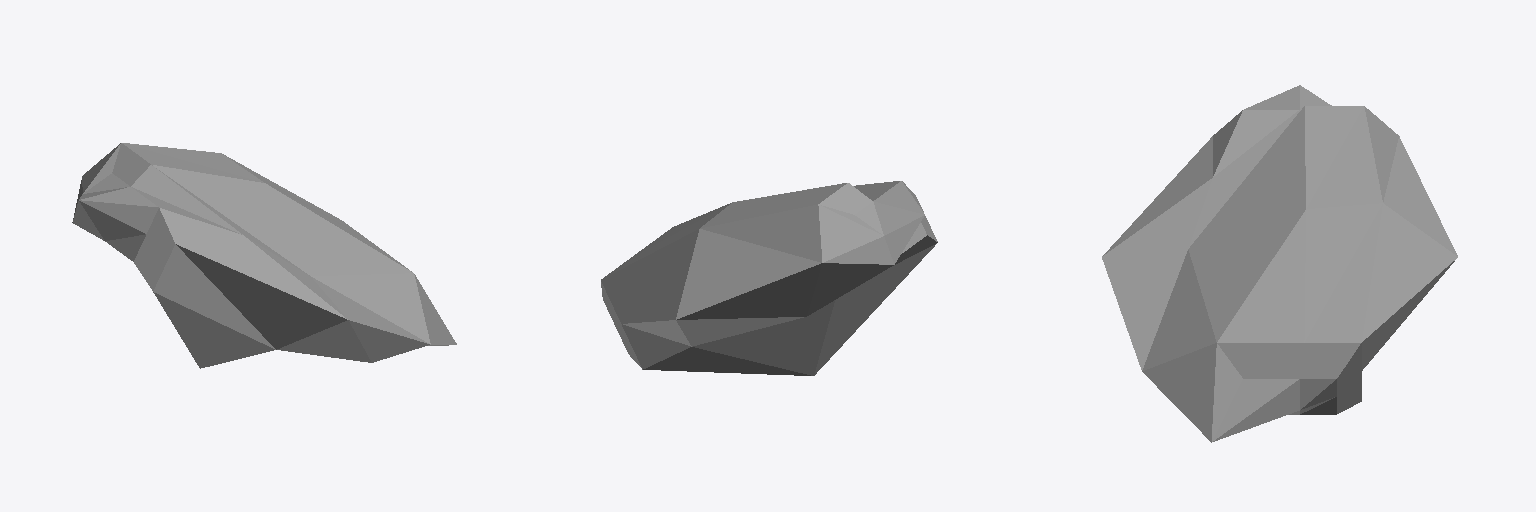
Rendered from minerals1.obj.
The picture shows the model from 3 angles: view 1: azimuth 30°, elevation 25°; view 2: azimuth 150°, elevation 25°; view 3: azimuth 270°, elevation 25°; orthographic projection.
Parts seen in each view (by area): view 1: Shard03_Cube.000; view 2: Shard03_Cube.000; view 3: Shard03_Cube.000.
Part boxes in pixels (left/top/right/bottom): Shard03_Cube.000: left=72, top=143, right=456, bottom=368; Shard03_Cube.000: left=601, top=181, right=937, bottom=375; Shard03_Cube.000: left=1102, top=85, right=1457, bottom=442.
Size of the model in its own units: 0.2204 by 0.1322 by 0.2035.